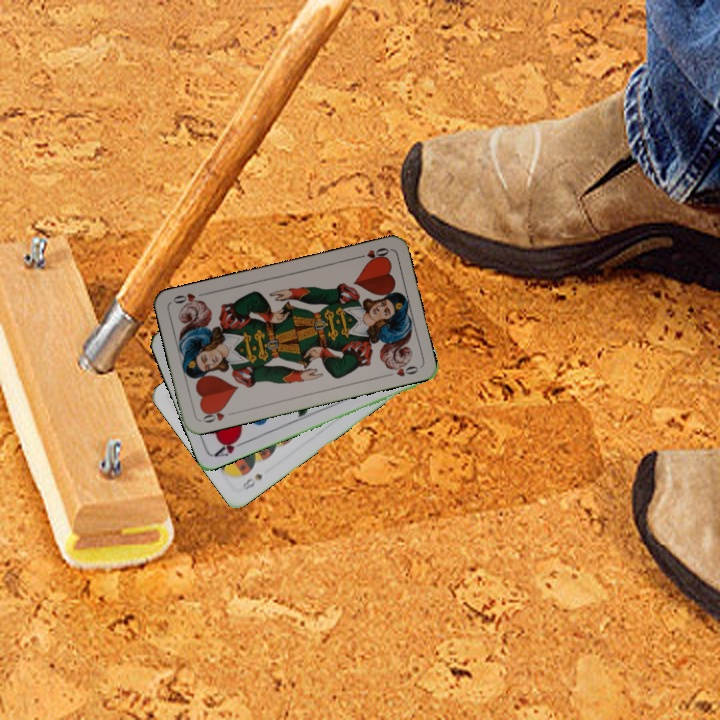HA: (211, 432, 249, 459)
HO: (199, 403, 237, 425), (352, 244, 391, 264)
S8: (238, 469, 265, 493)
